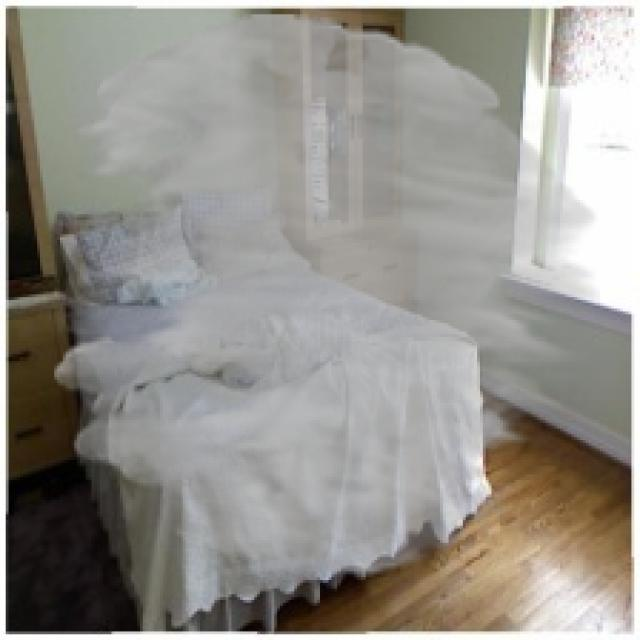smoke: (54, 14, 600, 577)
